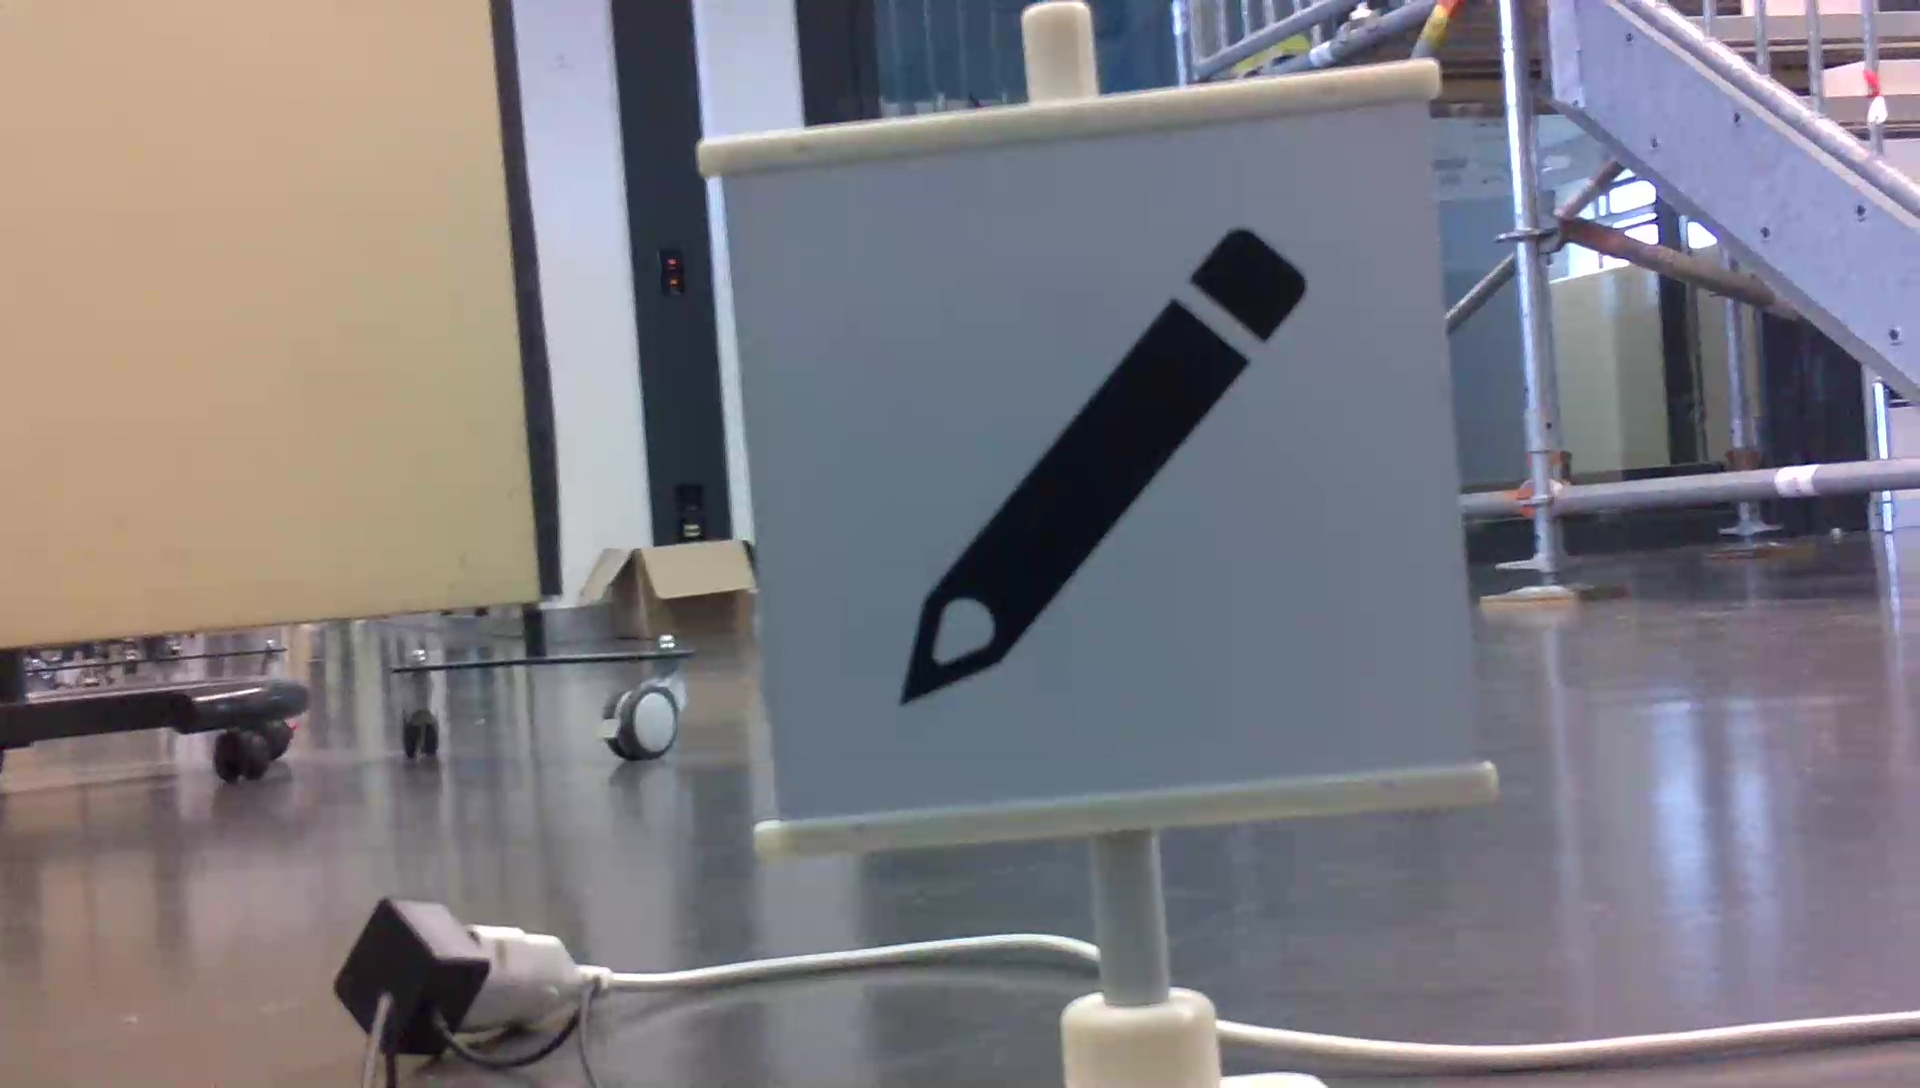pencil: (873, 218, 1317, 715)
